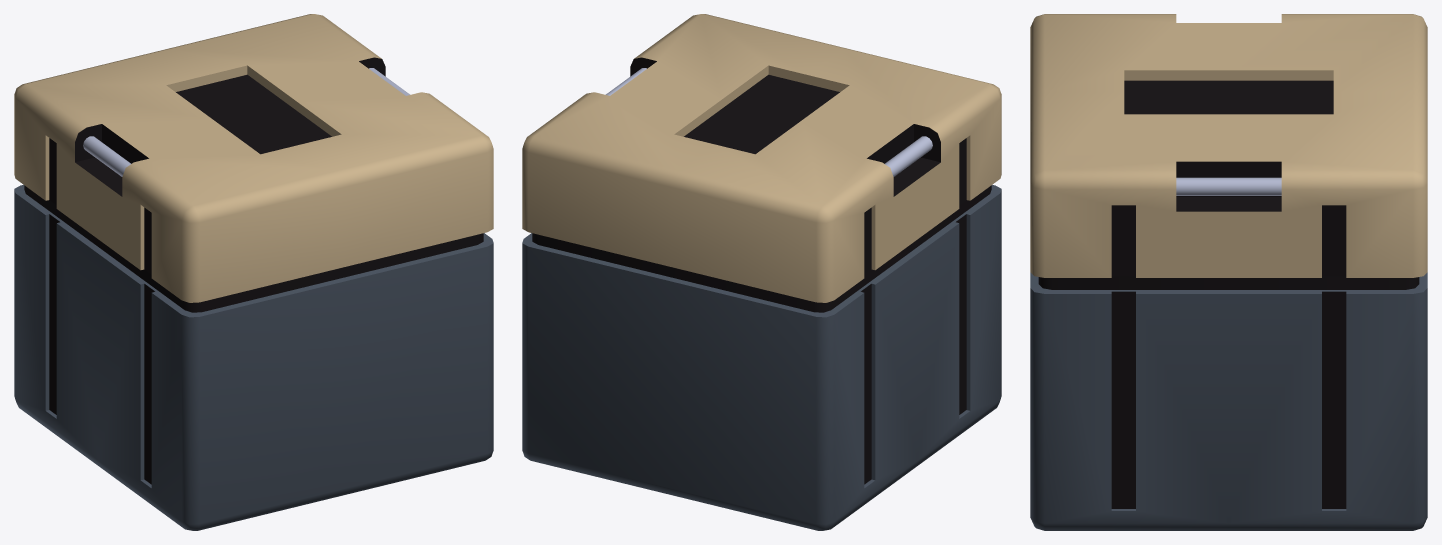
Rendered from MM_Crate_3.fbx.
3 views of the same model, side by side, from view 1: azimuth 30°, elevation 25°; view 2: azimuth 150°, elevation 25°; view 3: azimuth 270°, elevation 25° (orthographic). The views are drawn at different scales.
Visible parts, largest first — view 1: Cube.032; view 2: Cube.032; view 3: Cube.032.
Boxes of the visible parts, x1,y1,x2,y2 form: Cube.032: [14, 14, 493, 530]; Cube.032: [522, 14, 1001, 530]; Cube.032: [1030, 14, 1427, 530].
Size of the model in its own units: 72.93 by 72.93 by 72.93.
